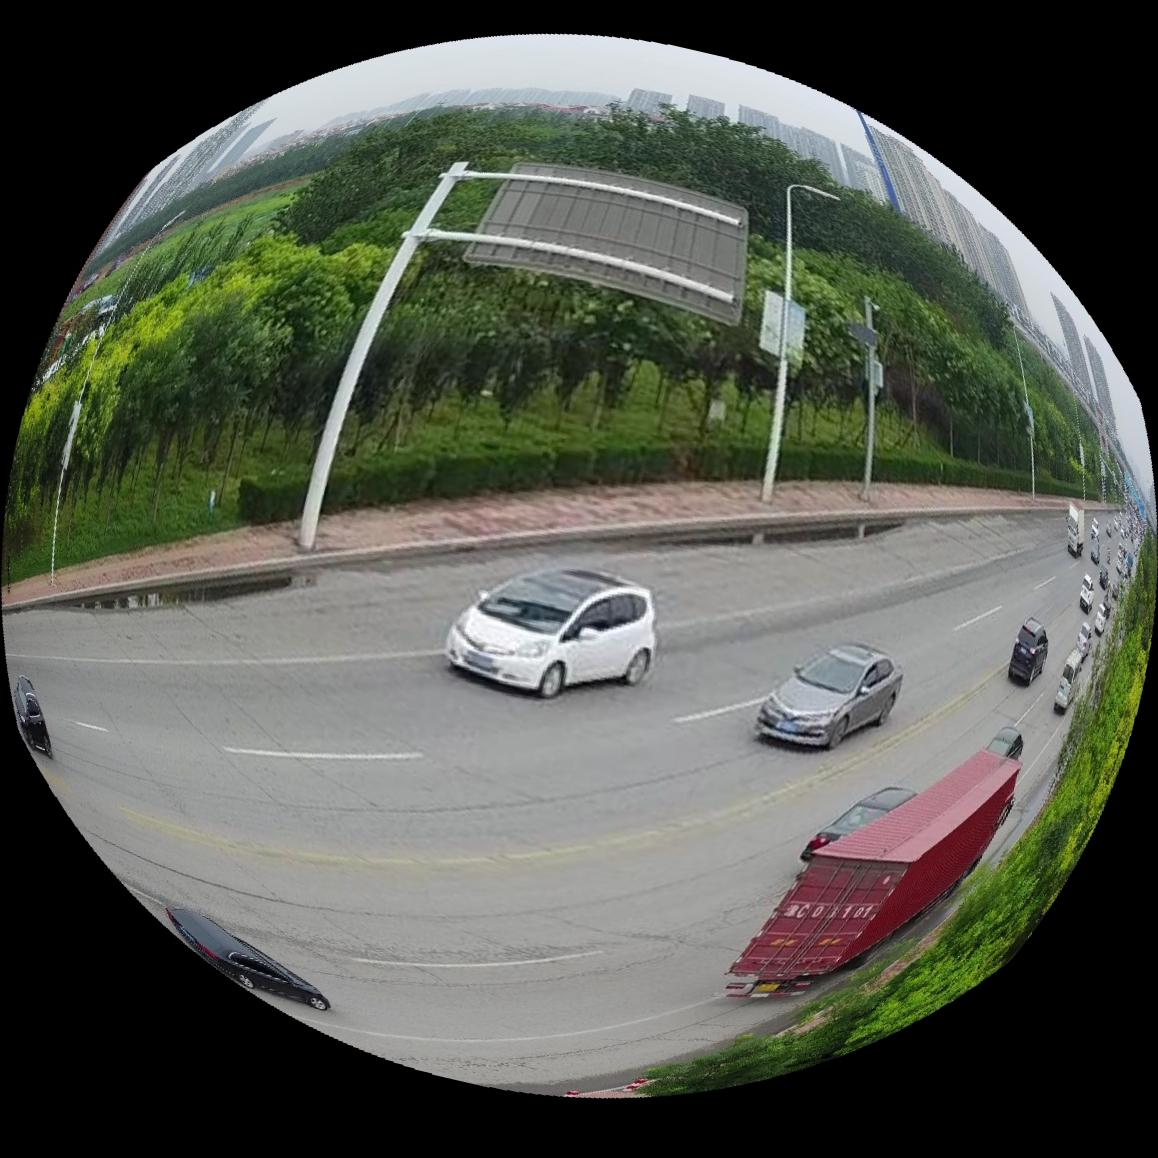cars: (727, 730, 1025, 999), (445, 568, 657, 700), (164, 910, 330, 1013), (753, 643, 906, 751), (802, 788, 917, 863), (12, 675, 49, 759), (1010, 618, 1051, 687), (1056, 649, 1086, 716), (1068, 503, 1088, 558), (1077, 621, 1095, 662), (1081, 575, 1098, 614)
trees: (4, 107, 796, 577), (646, 538, 1158, 1096), (790, 198, 1130, 496)
